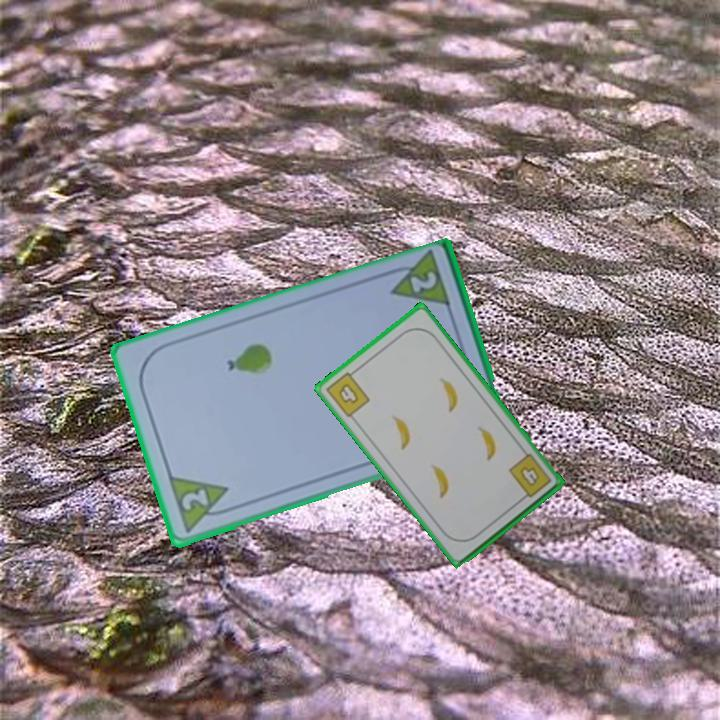2p: (177, 485, 211, 514), (406, 268, 440, 297)
4b: (322, 365, 373, 420), (505, 450, 555, 504)
